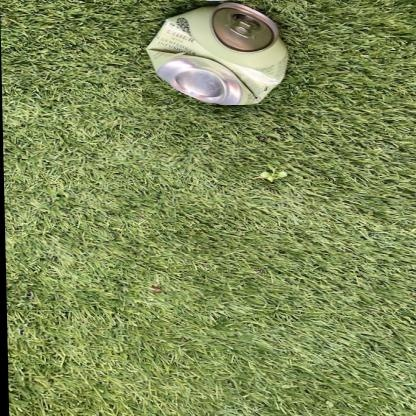trash: (147, 3, 287, 104)
